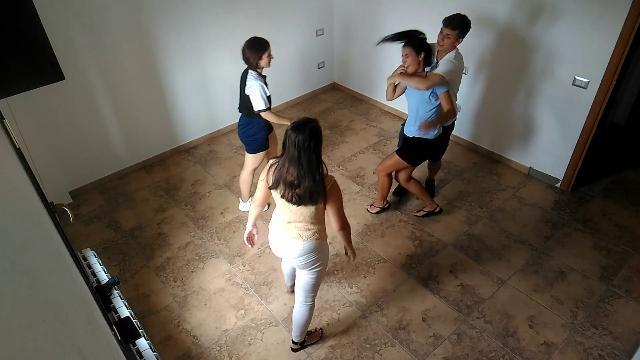non-violence: (242, 118, 356, 352), (235, 36, 299, 214)
violence: (366, 14, 472, 221)
